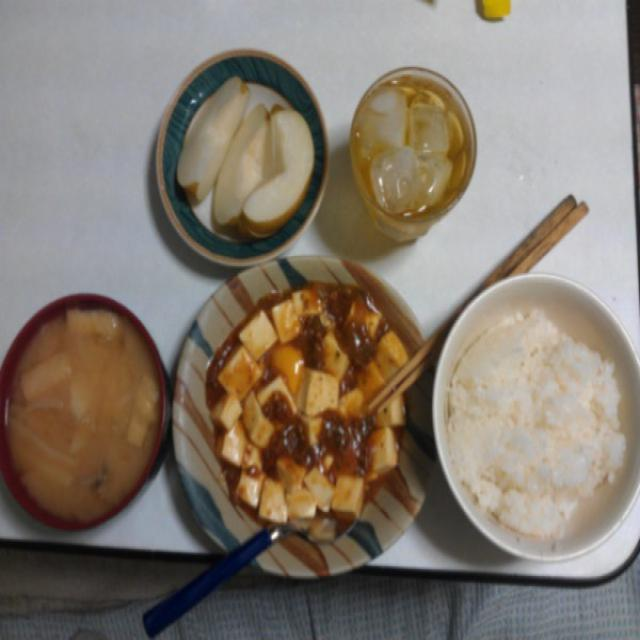Rice: (447, 300, 627, 536)
